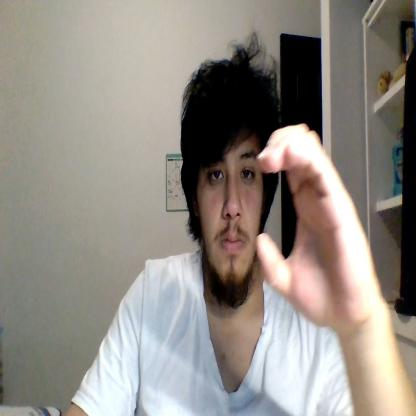C: (257, 123, 379, 327)
